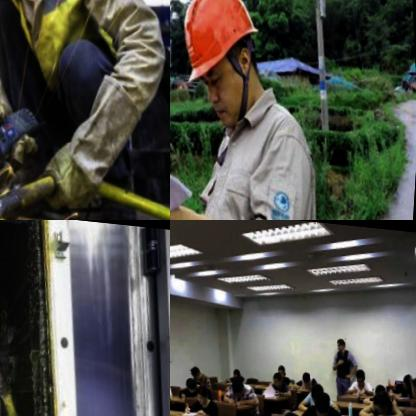head: (312, 383, 334, 416), (373, 383, 393, 412), (196, 377, 213, 404), (230, 372, 248, 394), (312, 376, 328, 398), (282, 405, 310, 416), (402, 365, 416, 386), (355, 359, 368, 379), (185, 372, 199, 390), (375, 374, 388, 392), (303, 364, 315, 383), (191, 361, 203, 379), (272, 366, 284, 384), (336, 329, 348, 346), (232, 361, 243, 375), (278, 359, 287, 375)
helmet: (170, 0, 282, 134)
